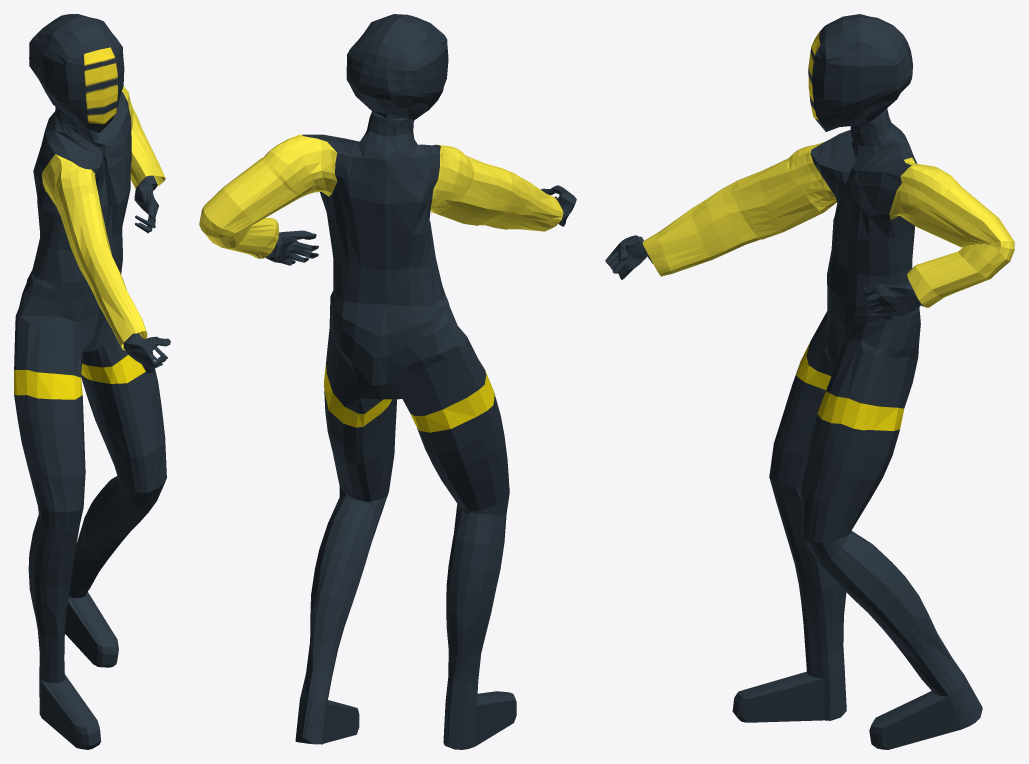
Rendered from Sentry_WB_000018.obj.
3 renders of one model, left to right at view 1: azimuth 30°, elevation 25°; view 2: azimuth 150°, elevation 25°; view 3: azimuth 270°, elevation 25°, orthographic. The views are drawn at different scales.
Visible parts, largest first — view 1: Cube; view 2: Cube; view 3: Cube.
Boxes of the visible parts, x1,y1,x2,y2 form: Cube: [14, 14, 170, 749]; Cube: [199, 14, 576, 749]; Cube: [605, 14, 1014, 749].
Bounding box in the file's own units: 1.16 × 3.86 × 1.98.
